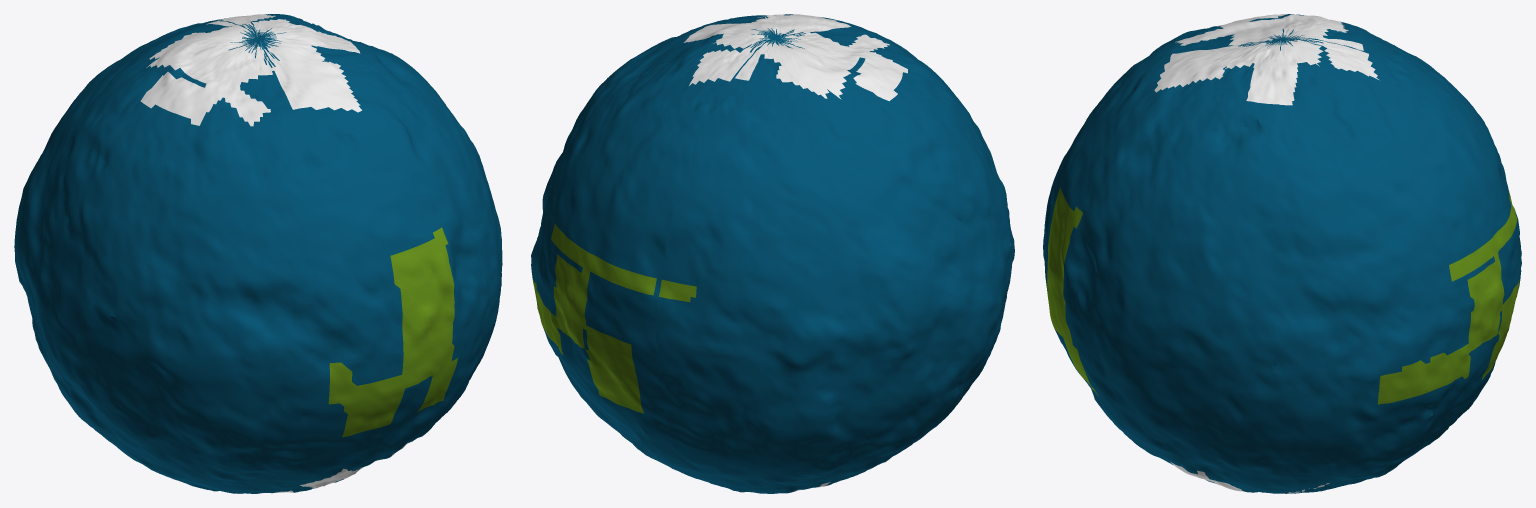
File: fauxEarth.fbx
3 views of the same model, side by side, from view 1: azimuth 30°, elevation 25°; view 2: azimuth 150°, elevation 25°; view 3: azimuth 270°, elevation 25° (orthographic).
Parts seen in each view (by area): view 1: Landscape; view 2: Landscape; view 3: Landscape.
Part boxes in pixels (x1=…): Landscape: x1=14, y1=14, x2=502, y2=493; Landscape: x1=531, y1=14, x2=1014, y2=493; Landscape: x1=1043, y1=14, x2=1521, y2=493.
Bounding box in the file's own units: 695 × 698 × 694.
